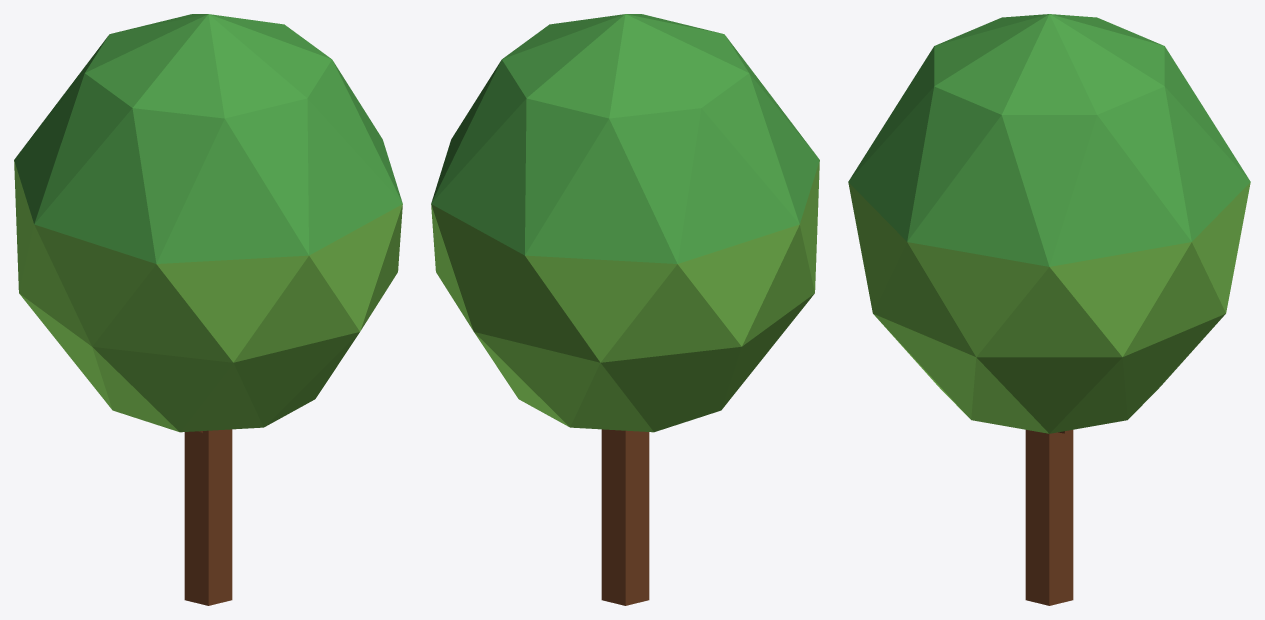
File: Tree10.fbx
3 renders of one model, left to right at view 1: azimuth 30°, elevation 25°; view 2: azimuth 150°, elevation 25°; view 3: azimuth 270°, elevation 25°, orthographic.
Parts seen in each view (by area): view 1: Tree10; view 2: Tree10; view 3: Tree10.
Part boxes in pixels (x1,y1,x2,y2): Tree10: [14, 14, 402, 605]; Tree10: [431, 14, 819, 605]; Tree10: [848, 14, 1250, 605].
Size of the model in its own units: 0.88 by 1.4 by 0.88.
